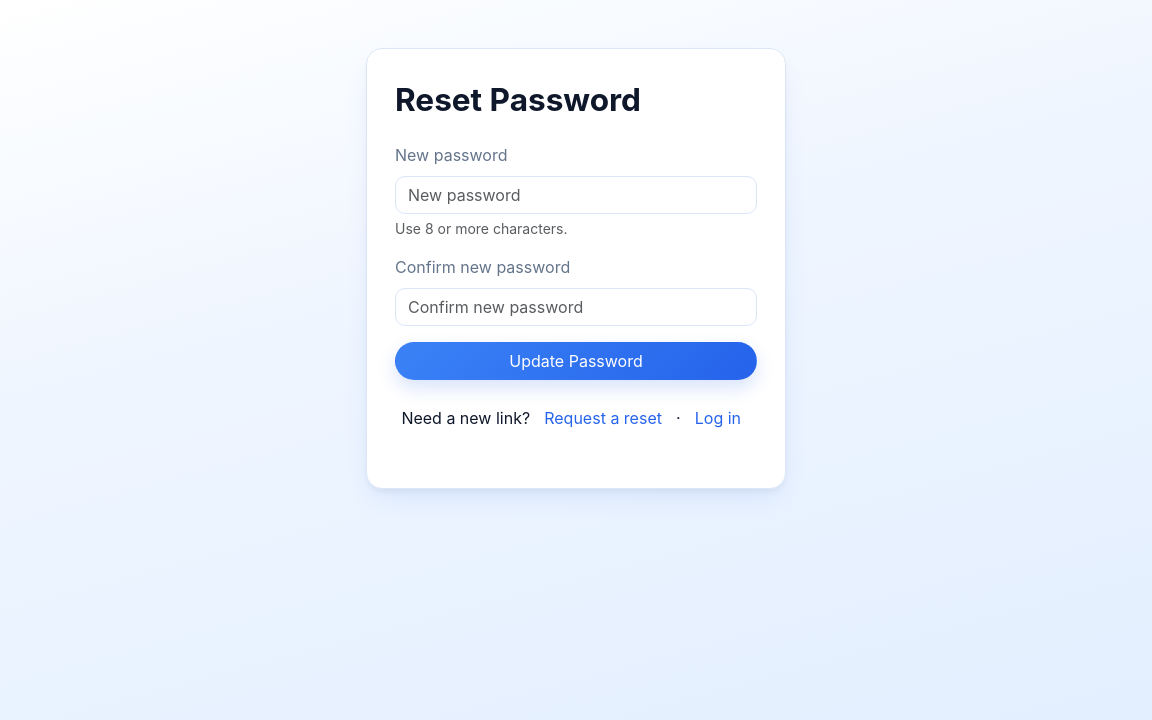
Test: ResetPassword Page › enforces 8+ characters
Type "short" into the password field labelled "New password".
click(576, 195); type("short")  # box [395,176,757,214]
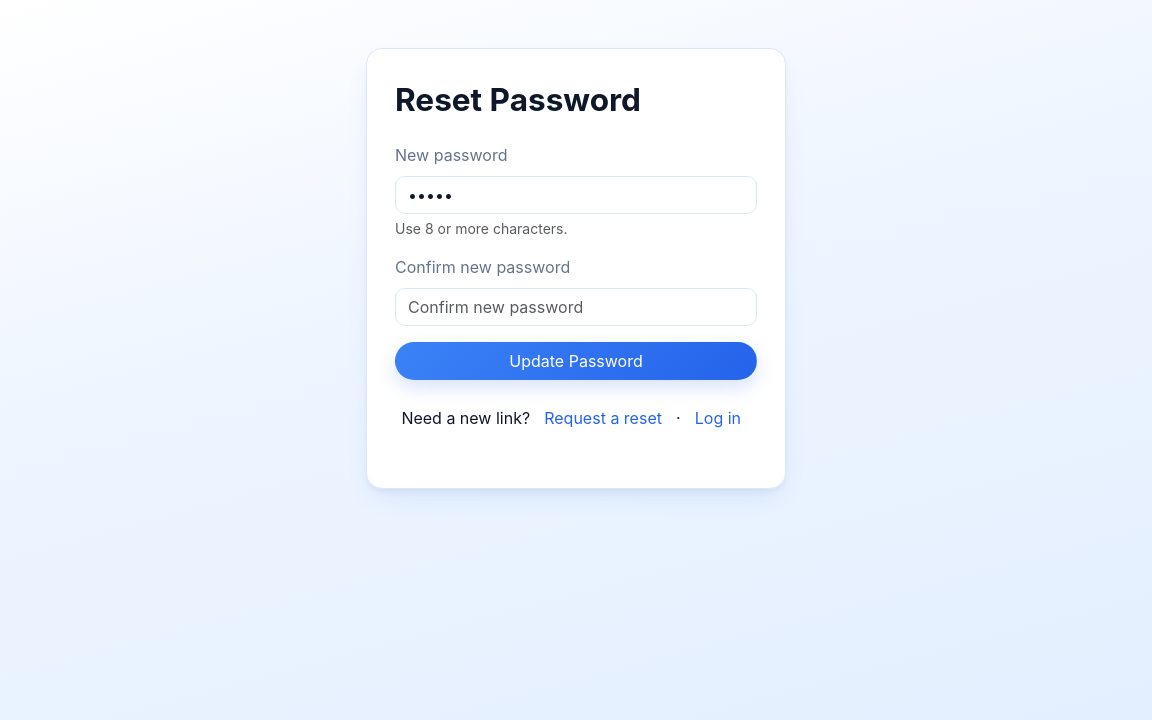
Type "short" into the password field labelled "Confirm new password".
click(576, 307); type("short")  # box [395,288,757,326]
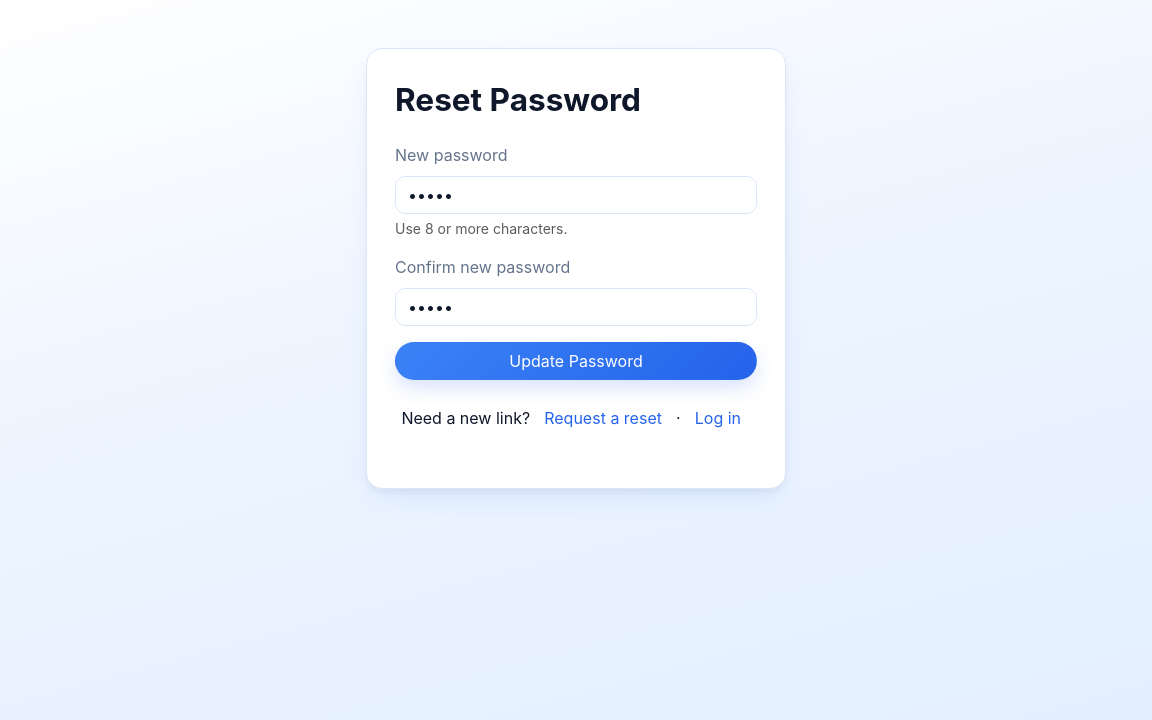
Click the button "Update Password".
click(576, 361)  # box [395,342,757,380]
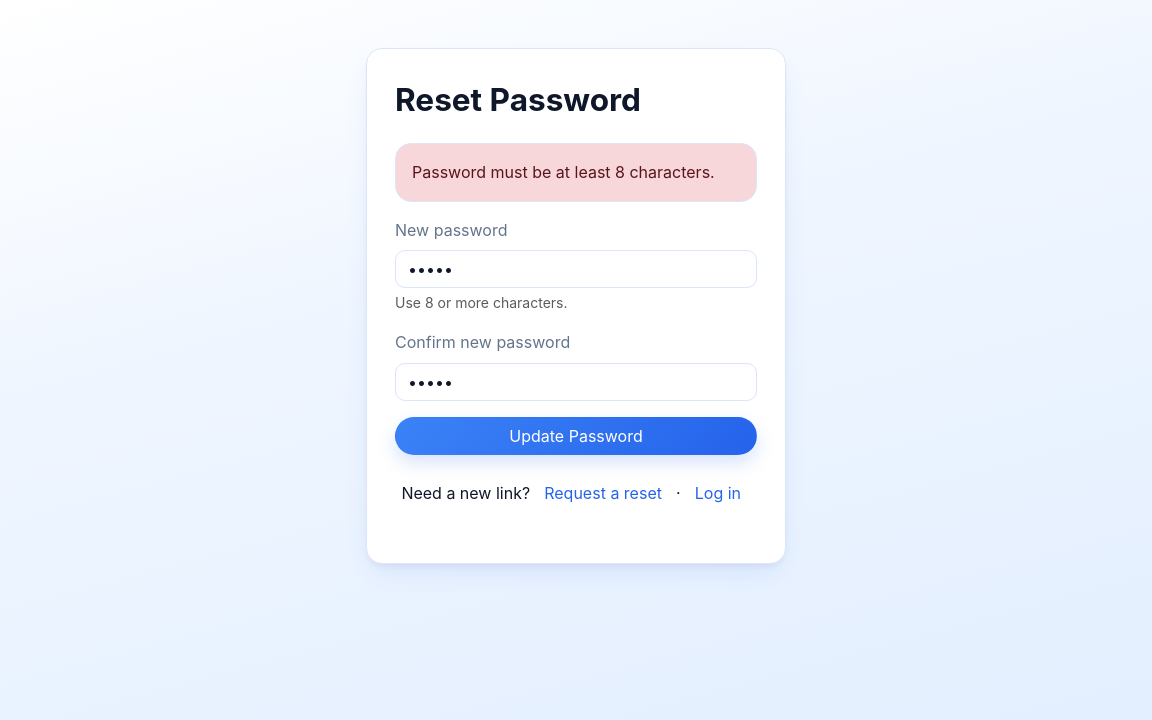
Check: the text "Password must be at least 8 characters." is shown, box [395,143,757,202]
